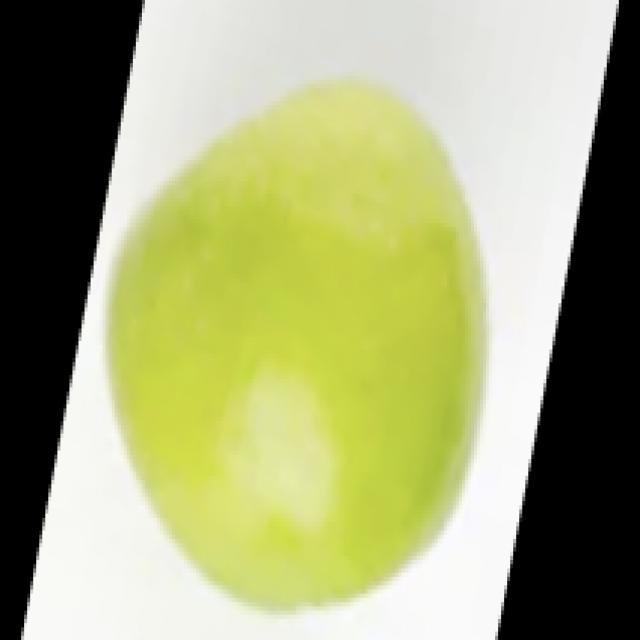Fresh Apple: (135, 110, 493, 583)
